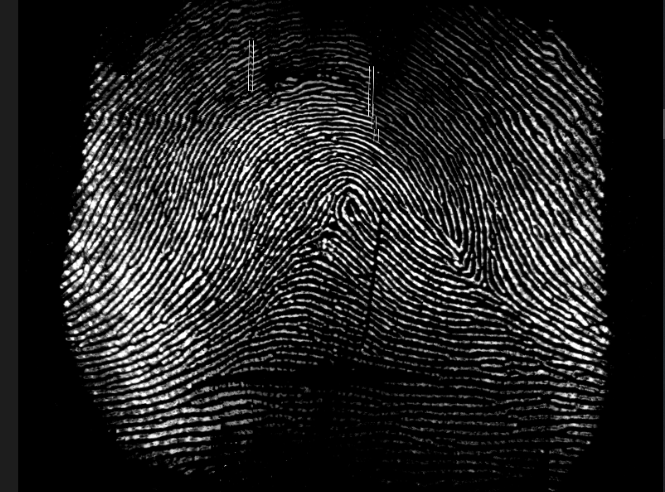deltas: (434, 240, 510, 309), (298, 211, 348, 260)
nucleo: (336, 184, 379, 222)
